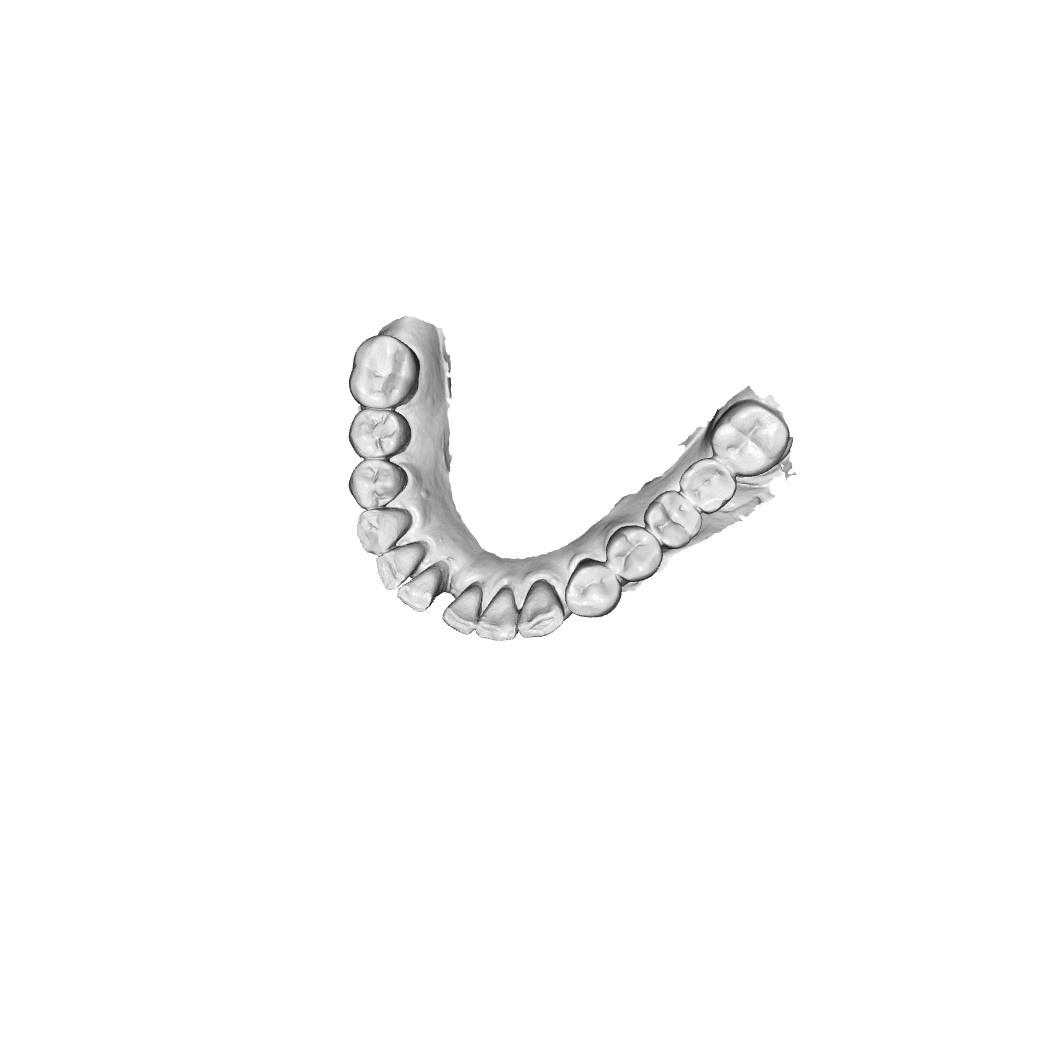canine: (357, 510, 407, 556), (522, 585, 565, 631)
incisor: (377, 546, 424, 585), (480, 592, 519, 638), (446, 588, 480, 631), (403, 567, 442, 604)
molar: (352, 336, 415, 407), (715, 406, 784, 469), (649, 491, 700, 545), (683, 461, 733, 511)
premolar: (347, 407, 412, 457), (348, 457, 409, 505), (614, 525, 666, 577), (567, 564, 621, 613)
